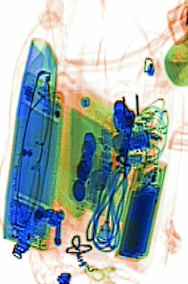powerbank: (113, 157, 168, 261)
